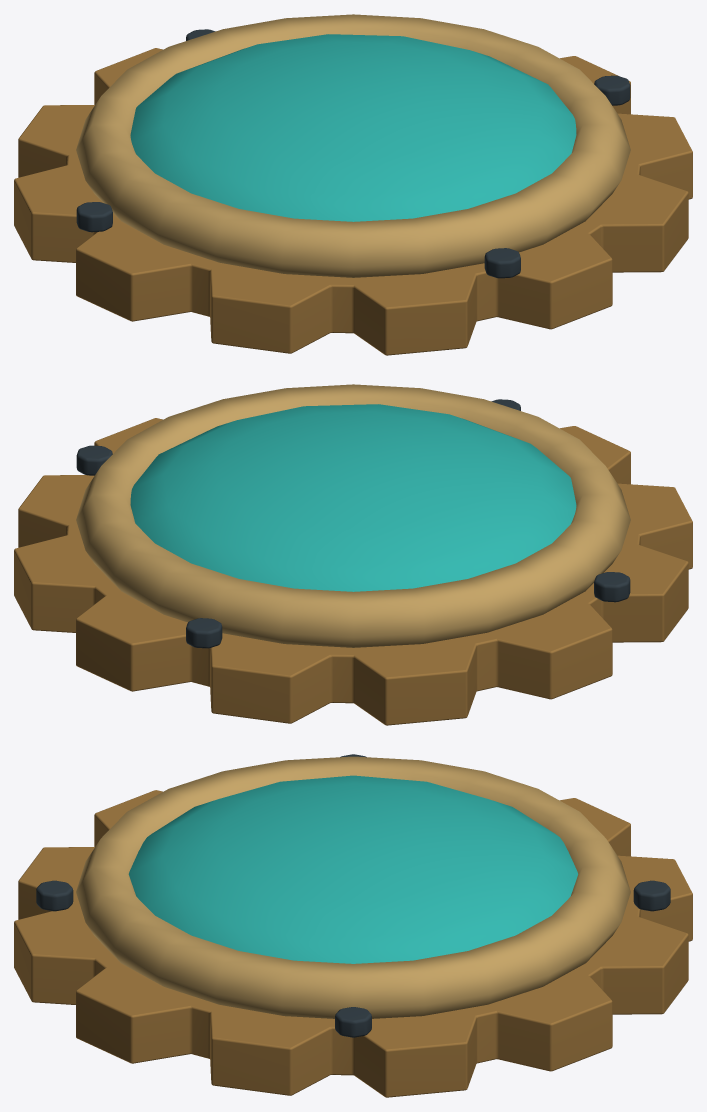
File: brass_brooch.glb
3 views of the same model, one above another, from view 1: azimuth 30°, elevation 25°; view 2: azimuth 150°, elevation 25°; view 3: azimuth 270°, elevation 25° (orthographic).
Parts seen in each view (by area): view 1: SM_brass_brooch; view 2: SM_brass_brooch; view 3: SM_brass_brooch.
Part boxes in pixels (left/top/right/bottom): SM_brass_brooch: left=14, top=14, right=692, bottom=355; SM_brass_brooch: left=14, top=384, right=692, bottom=725; SM_brass_brooch: left=14, top=754, right=692, bottom=1097.
Bounding box in the file's own units: 0.3181 × 0.066 × 0.3181.
